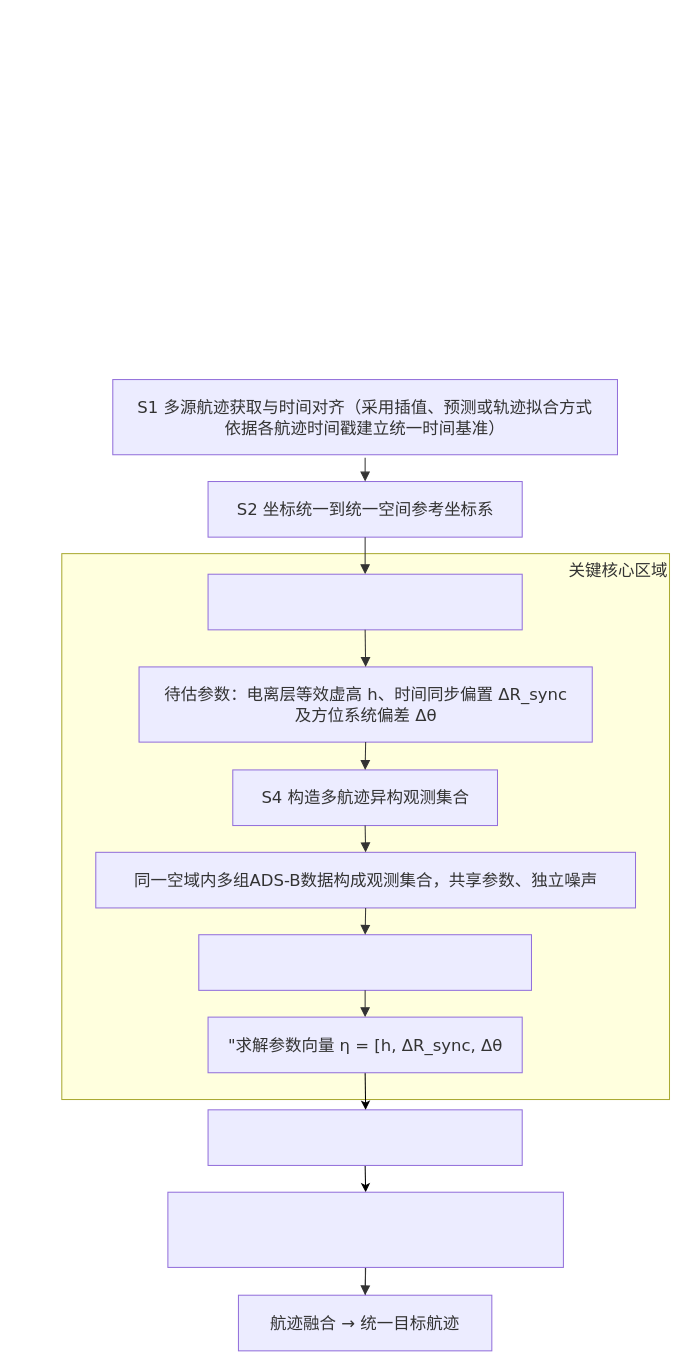
Some shapes in this 687 by 1369 pixel diagram are drawn without their labels. Each missing label, with the centre of its shape:
S3 建立天波双基地参数化观测模型: [364,601]
S5 联合最大似然 / 加权最小二乘估计: [364,962]
S6 空间配准：系统性校正各源航迹: [364,1137]
（距离门 / 马氏距离门 / 全局最近邻等方法） 一致性判决与细匹配: [365,1229]
